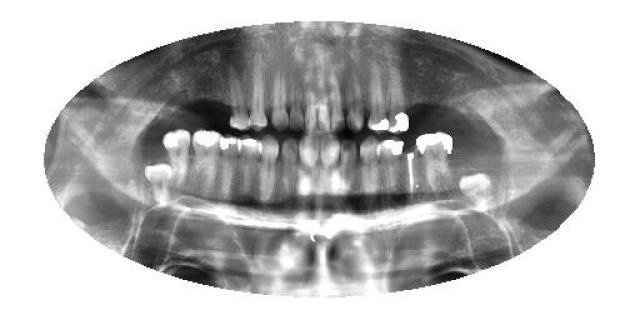Fillings: (416, 130, 454, 196), (162, 129, 192, 189), (192, 131, 218, 199), (382, 135, 402, 204), (368, 64, 388, 132), (389, 68, 409, 134), (220, 133, 241, 195), (239, 138, 261, 196)
